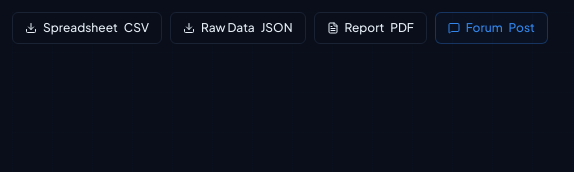
Test: ExportButtons error feedback › shows Failed on CSV button when export throws
Click the button "Spreadsheet CSV" at (87, 28), box [12,12,162,44]
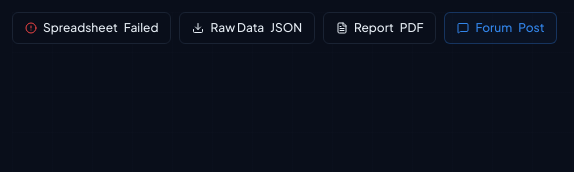
Expected: the button "Spreadsheet Failed" is shown, [12,12,172,44]
